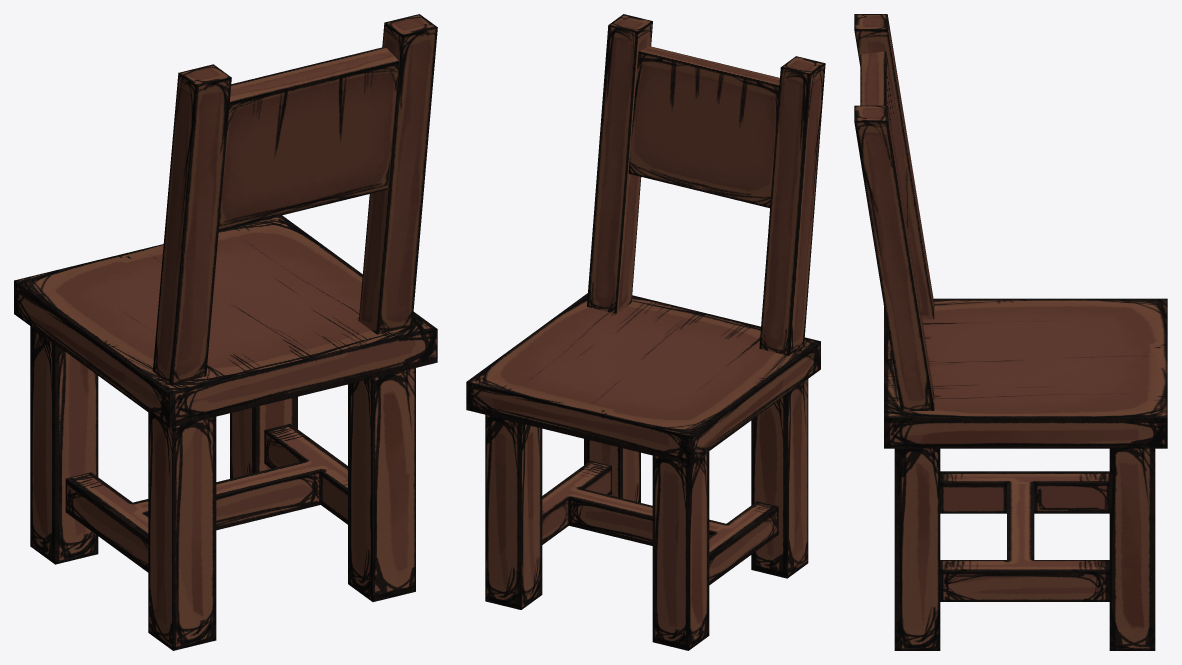
The model's file is chair.fbx.
3 views of the same model, side by side, from view 1: azimuth 30°, elevation 25°; view 2: azimuth 150°, elevation 25°; view 3: azimuth 270°, elevation 25° (orthographic). The views are drawn at different scales.
Visible parts, largest first — view 1: taburet.002; view 2: taburet.002; view 3: taburet.002.
Part boxes in pixels (x1=…): taburet.002: x1=14, y1=14, x2=437, y2=650; taburet.002: x1=466, y1=14, x2=825, y2=650; taburet.002: x1=854, y1=14, x2=1167, y2=650.
Bounding box in the file's own units: 0.83 × 1.72 × 0.922.
Materials: 2 (2 with a texture image).
